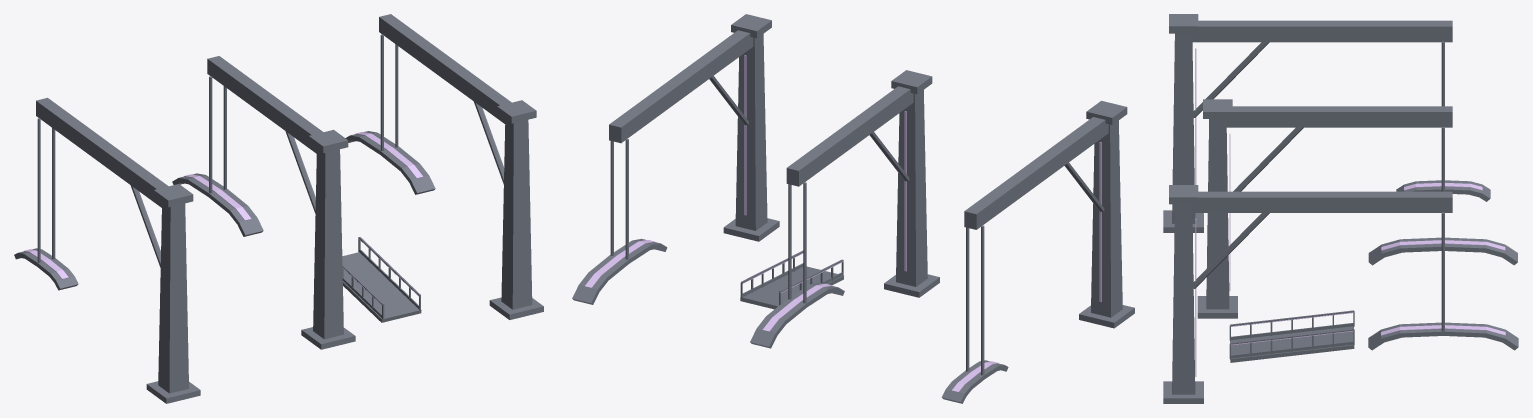
File: PR_Doca_Nave.fbx
The picture shows the model from 3 angles, left to right: view 1: azimuth 30°, elevation 25°; view 2: azimuth 150°, elevation 25°; view 3: azimuth 270°, elevation 25°; orthographic projection. The views are drawn at different scales.
Parts seen in each view (by area): view 1: PR_Doca_Nave; view 2: PR_Doca_Nave; view 3: PR_Doca_Nave.
Boxes of the visible parts, box(x1,y1,x2,y2) form: PR_Doca_Nave: box(14, 14, 543, 403); PR_Doca_Nave: box(572, 14, 1134, 403); PR_Doca_Nave: box(1163, 14, 1518, 403).
Bounding box in the file's own units: 28.6 × 14.76 × 22.83.
